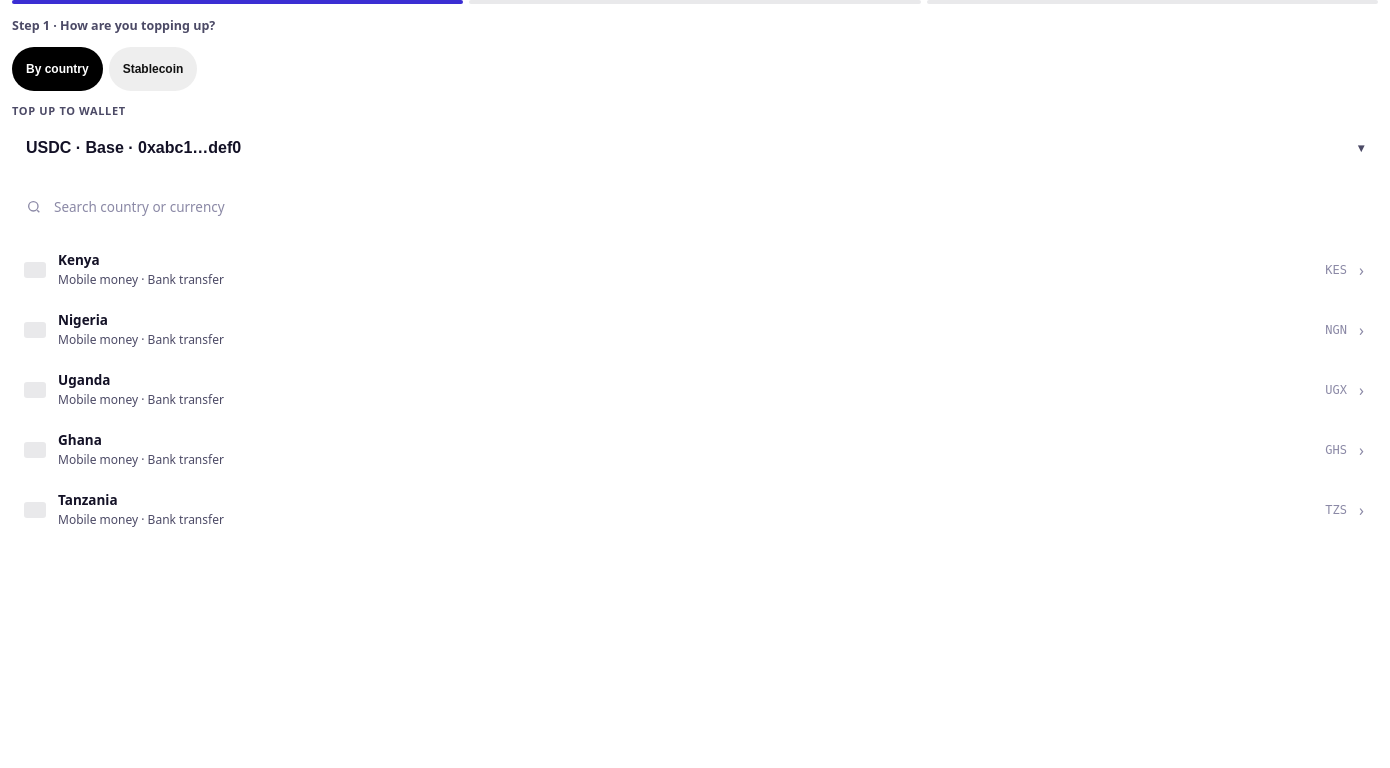
DepositModal country-first step › searches by country or currency and hides Continue until a method is chosen
This screenshot has width=1390, height=768.
Step 1. Type "kenya" into the field with placeholder "Search country or currency" → (708, 207), box x1=52 y1=197 x2=1364 y2=217
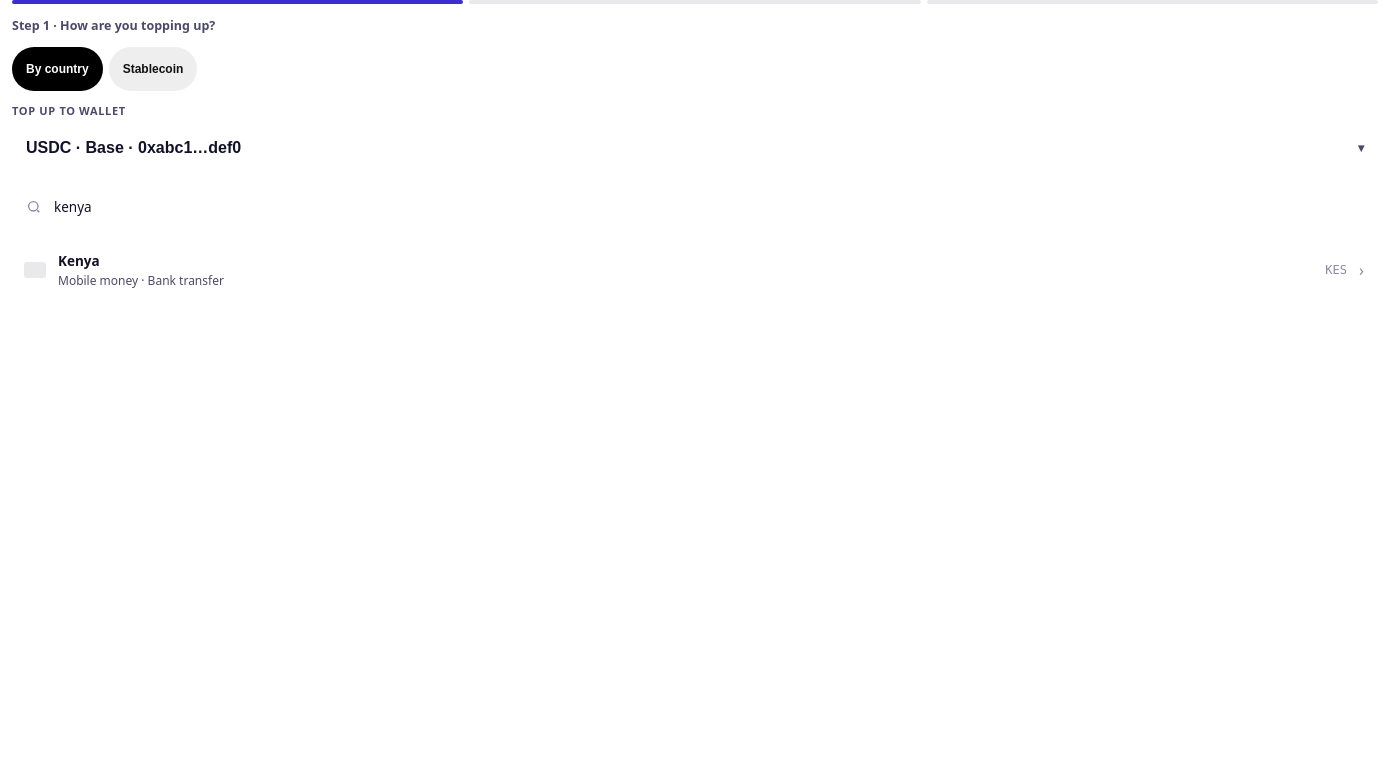
Expected: the text "Kenya" is shown, x1=58 y1=252 x2=100 y2=270
Result: the option "Uganda" is gone
